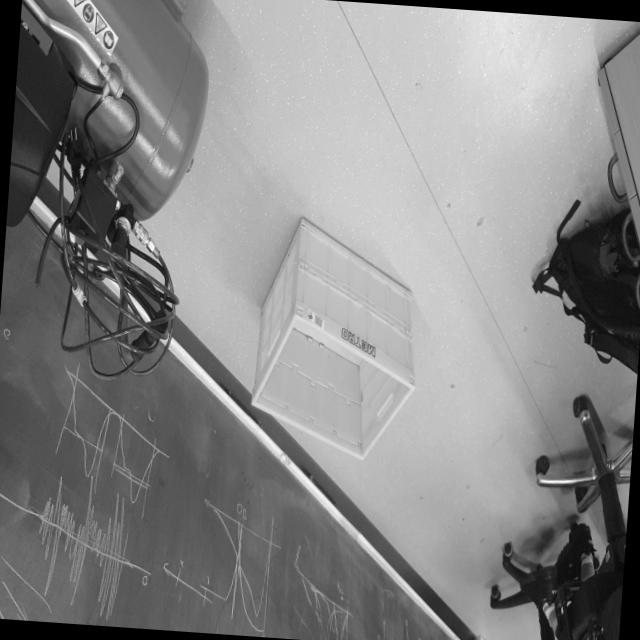box: (241, 191, 430, 470)
